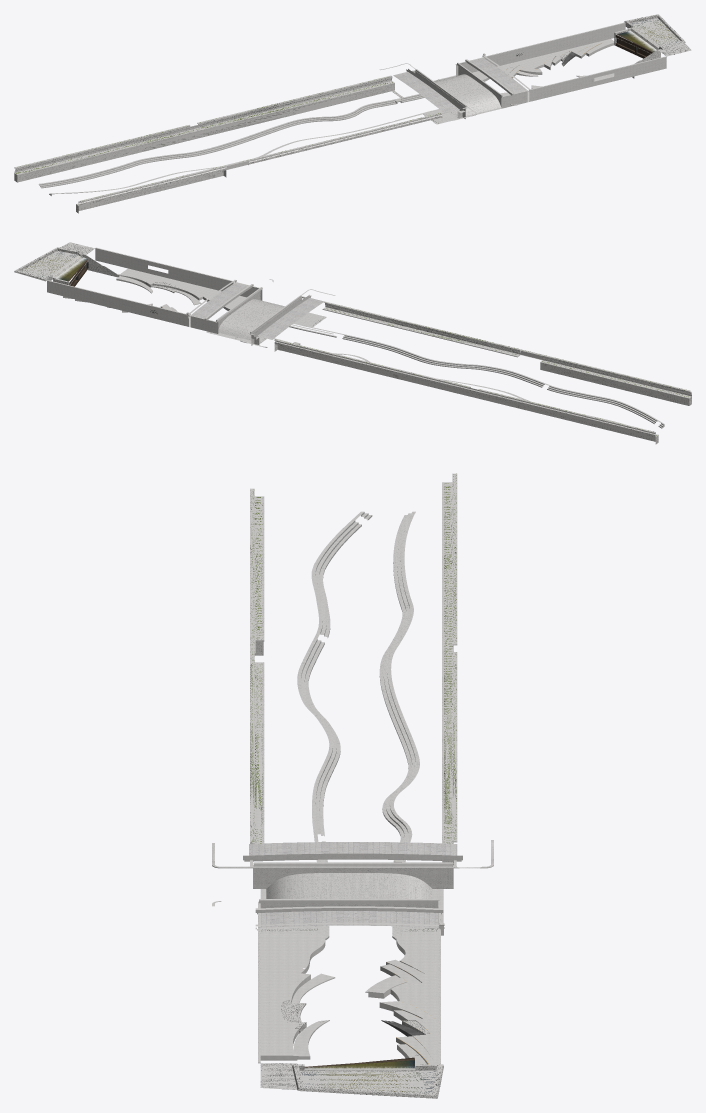
The model's file is Main_Combine_JungRi_ing1_Test.fbx.
The picture shows the model from 3 angles, top to bottom: view 1: azimuth 30°, elevation 25°; view 2: azimuth 150°, elevation 25°; view 3: azimuth 270°, elevation 25°; orthographic projection. The views are drawn at different scales.
Parts seen in each view (by area): view 1: Wall_B_R_pt1.002, group_156, Wall_B_R_pt1.003, Wall_A_pt1.001, Wall_A_pt2.001, Wall_B_R_pt1, Wall_B_R_pt1.001, Wall_B_L_pt1.003, Wall_B_L_pt1, group_193, group_33.005, Wall_B_L_pt1.001 (+12 smaller); view 2: Wall_B_R_pt1.002, group_156, Wall_A_pt2.001, Wall_B_R_pt1.003, Wall_A_pt1.001, Wall_B_L_pt1.003, Wall_B_L_pt1, group_193, group_33.005, group_96.019, Wall_B_L_pt1.001, group_159 (+9 smaller); view 3: group_156, group_96.019, Wall_B_R_pt1.001, group_193, group_159, group_33.005, Wall_B_L_pt1.009, group_227.046, group_30.005, SketchUp_Instance_558, Wall_B_L_pt1.007, group_227.003 (+8 smaller).
Part boxes in pixels (x1=…): Wall_B_R_pt1.002: x1=14, y1=83, x2=394, y2=182; group_156: x1=415, y1=64, x2=501, y2=118; Wall_B_R_pt1.003: x1=14, y1=77, x2=392, y2=172; Wall_A_pt1.001: x1=529, y1=57, x2=666, y2=101; Wall_A_pt2.001: x1=485, y1=24, x2=625, y2=66; Wall_B_R_pt1: x1=14, y1=80, x2=394, y2=175; Wall_B_R_pt1.001: x1=16, y1=81, x2=393, y2=174; Wall_B_L_pt1.003: x1=76, y1=170, x2=226, y2=213; Wall_B_L_pt1: x1=249, y1=114, x2=442, y2=164; group_193: x1=393, y1=72, x2=459, y2=113; group_33.005: x1=631, y1=18, x2=680, y2=46; Wall_B_L_pt1.001: x1=78, y1=166, x2=226, y2=205; Wall_B_R_pt1.002: x1=274, y1=344, x2=658, y2=444; group_156: x1=218, y1=289, x2=301, y2=345; Wall_A_pt2.001: x1=47, y1=281, x2=188, y2=326; Wall_B_R_pt1.003: x1=274, y1=340, x2=655, y2=436; Wall_A_pt1.001: x1=95, y1=249, x2=233, y2=291; Wall_B_L_pt1.003: x1=540, y1=363, x2=691, y2=405; Wall_B_L_pt1: x1=325, y1=303, x2=520, y2=354; group_193: x1=257, y1=298, x2=324, y2=339; group_33.005: x1=21, y1=251, x2=78, y2=277; group_96.019: x1=124, y1=268, x2=246, y2=308; Wall_B_L_pt1.001: x1=542, y1=356, x2=691, y2=396; group_159: x1=191, y1=282, x2=248, y2=318; group_156: x1=253, y1=868, x2=453, y2=926; group_96.019: x1=260, y1=935, x2=321, y2=1060; Wall_B_R_pt1.001: x1=444, y1=483, x2=452, y2=843; group_193: x1=249, y1=842, x2=457, y2=855; group_159: x1=260, y1=911, x2=437, y2=927; group_33.005: x1=300, y1=1070, x2=436, y2=1093; Wall_B_L_pt1.009: x1=250, y1=488, x2=254, y2=842; group_227.046: x1=387, y1=511, x2=419, y2=935; group_30.005: x1=297, y1=511, x2=364, y2=935; SketchUp_Instance_558: x1=243, y1=853, x2=462, y2=861; Wall_B_L_pt1.007: x1=255, y1=663, x2=262, y2=843; group_227.003: x1=383, y1=513, x2=415, y2=842.
Bounding box in the file's own units: 1613 × 41.74 × 307.
119 materials, 113 textured.
